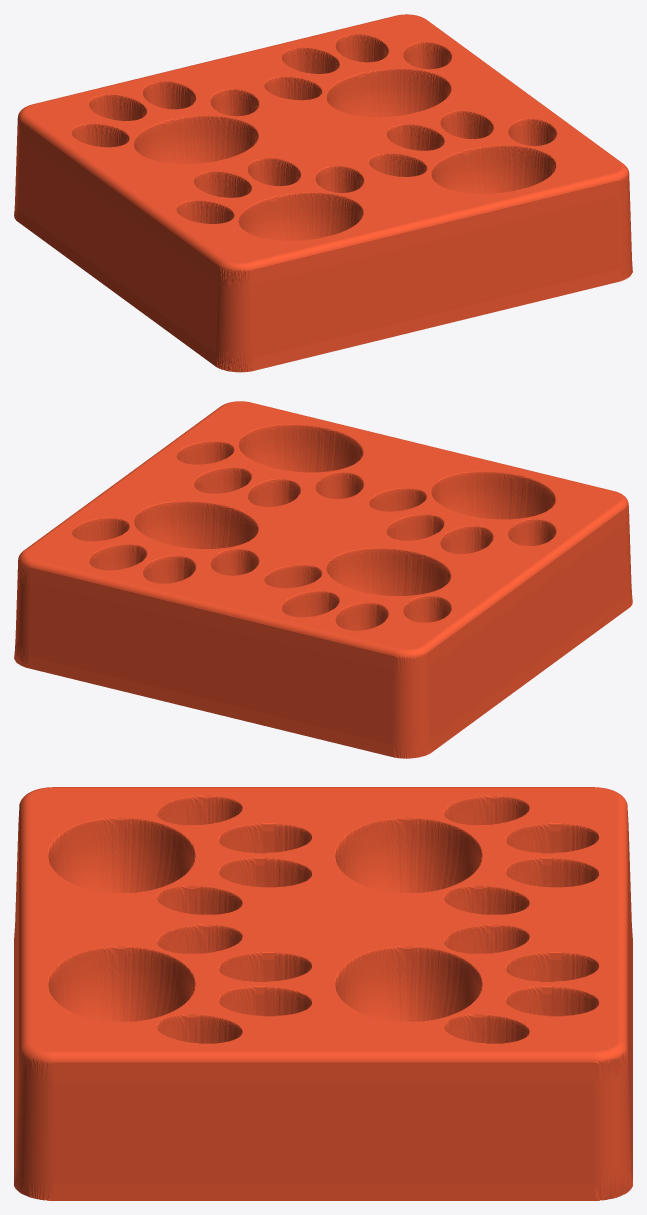
File: mold.glb
3 renders of one model, top to bottom at view 1: azimuth 30°, elevation 25°; view 2: azimuth 150°, elevation 25°; view 3: azimuth 270°, elevation 25°, orthographic. The views are drawn at different scales.
Visible parts, largest first — view 1: geometry_0; view 2: geometry_0; view 3: geometry_0.
Part boxes in pixels (x1,y1,x2,y2): geometry_0: (14, 14, 632, 372); geometry_0: (14, 401, 632, 758); geometry_0: (14, 787, 632, 1200).
Bounding box in the file's own units: 0.1493 × 0.036 × 0.1412.
